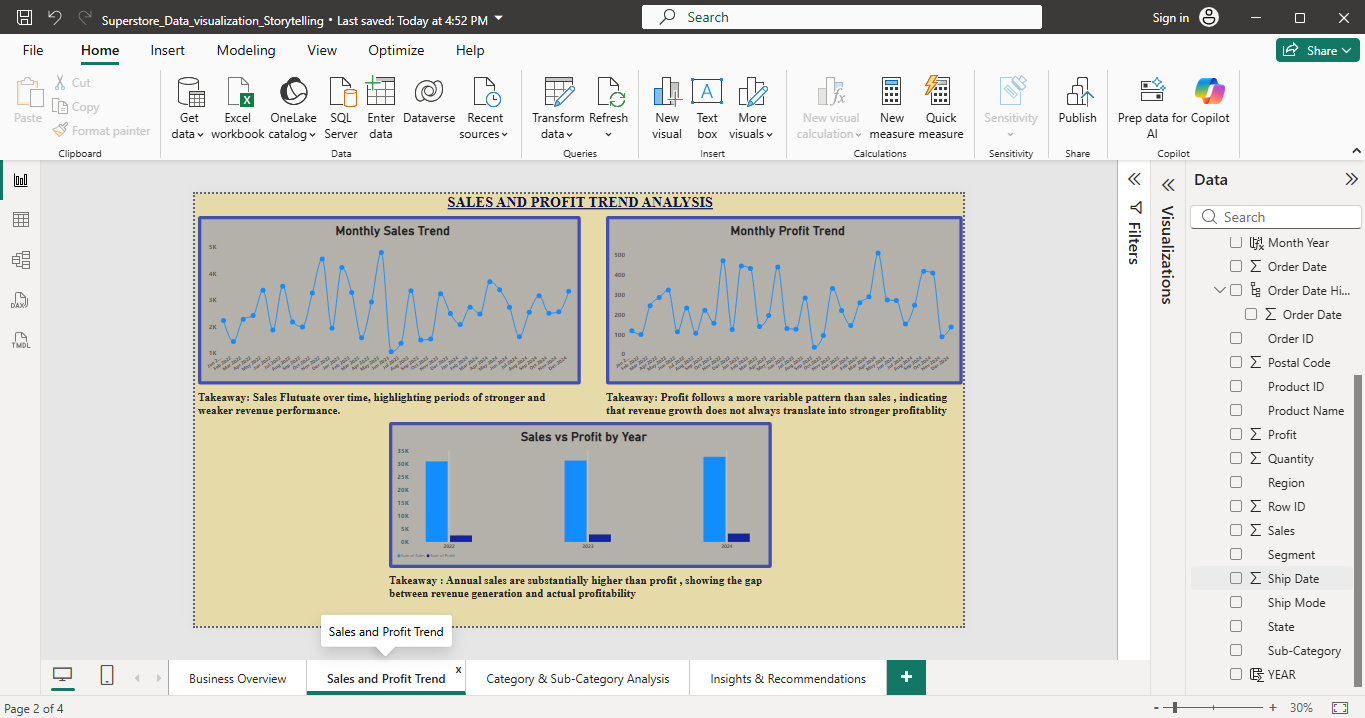

This screenshot's page, from the dashboard's own definition file:
{"tool":"powerbi","page":{"name":"Sales and Profit Trend","canvas":[2560,1440],"ordinal":1},"visuals":[{"type":"textbox","box":[11.5,0,2548.8,97.9],"z":0},{"type":"lineChart","title":"Monthly Sales Trend","fields":{"Category":["Superstore Data.Month Year"],"Y":["Sum(Superstore Data.Sales)"]},"box":[11.5,74.9,1275.8,561.6],"z":1},{"type":"textbox","box":[11.5,656.6,1275.8,103.7],"z":2},{"type":"lineChart","title":"Monthly Profit Trend","fields":{"Category":["Superstore Data.Month Year"],"Y":["Sum(Superstore Data.Profit)"]},"box":[1370.9,74.9,1189.4,561.6],"z":3},{"type":"textbox","box":[1370.9,656.6,1189.4,103.7],"z":4},{"type":"clusteredColumnChart","title":"Sales vs Profit by Year","fields":{"Y":["Sum(Superstore Data.Sales)","Sum(Superstore Data.Profit)"],"Category":["Superstore Data.YEAR"]},"box":[648,760.3,1275.8,486.7],"z":5},{"type":"textbox","box":[648,1267.2,1275.8,164.2],"z":6}]}

Visuals, with their boxes on the page's 2560x1440 design canvas (x1, y1, x2, y2). These are canvas units, not pixel positions in the 1365x718 screenshot, which may show the page scaled, cropped or inside an application window:
textbox: locate(12, 0, 2560, 98)
"Monthly Sales Trend" lineChart: locate(12, 75, 1287, 636)
textbox: locate(12, 657, 1287, 760)
"Monthly Profit Trend" lineChart: locate(1371, 75, 2560, 636)
textbox: locate(1371, 657, 2560, 760)
"Sales vs Profit by Year" clusteredColumnChart: locate(648, 760, 1924, 1247)
textbox: locate(648, 1267, 1924, 1431)
